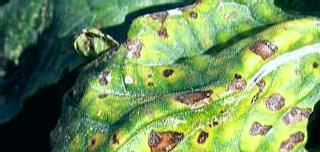Tomato Septoria leaf spot: (10, 0, 320, 152)
